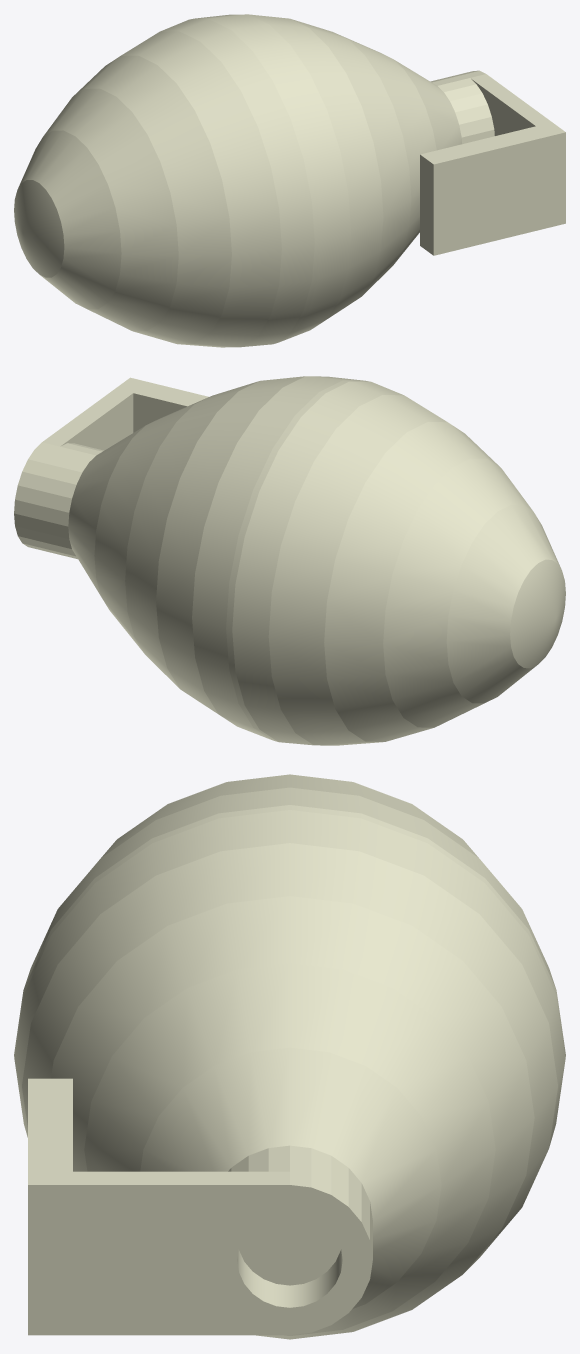
3 views of the same model, one above another, from view 1: azimuth 30°, elevation 25°; view 2: azimuth 150°, elevation 25°; view 3: azimuth 270°, elevation 25° (orthographic). The views are drawn at different scales.
Visible parts, largest first — view 1: group_0; view 2: group_0; view 3: group_0, ID11.
Part boxes in pixels (box(x1,y1,x2,y2)): group_0: box(14, 14, 565, 347); group_0: box(14, 376, 565, 745); group_0: box(14, 774, 565, 1339); ID11: box(237, 1212, 342, 1307).
Bounding box in the file's own units: 112 × 70.08 × 70.08.
